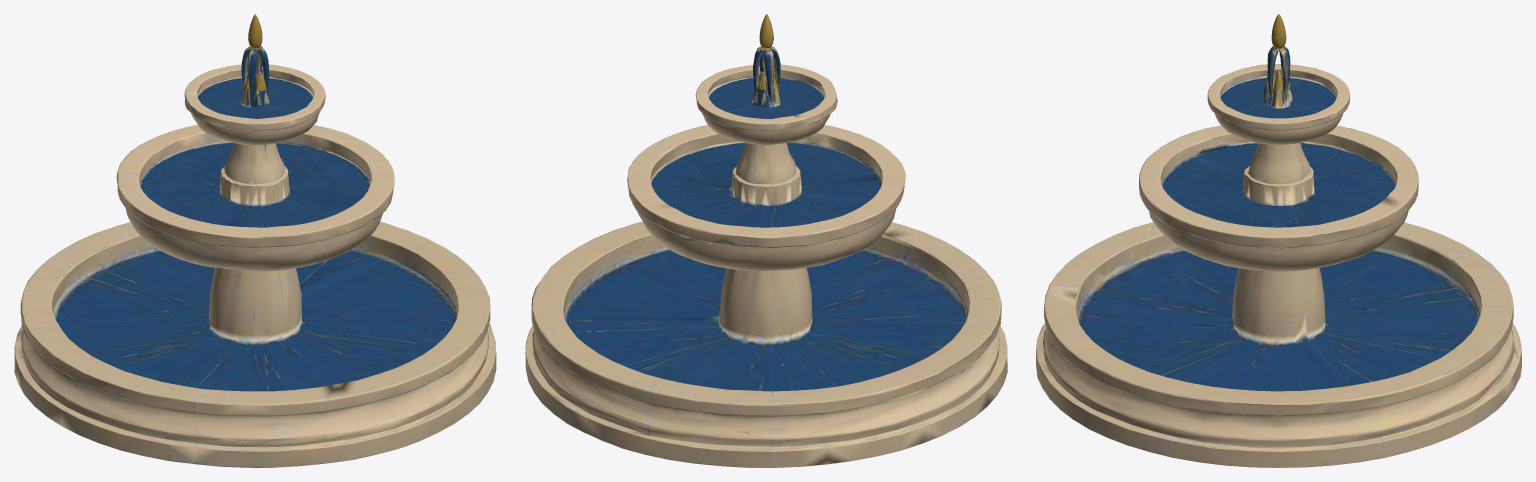
Rendered from fountain.glb.
3 renders of one model, left to right at view 1: azimuth 30°, elevation 25°; view 2: azimuth 150°, elevation 25°; view 3: azimuth 270°, elevation 25°, orthographic.
Bounding box in the file's own units: 0.9487 × 0.7647 × 0.9561.
Materials: 1 (1 with a texture image).
